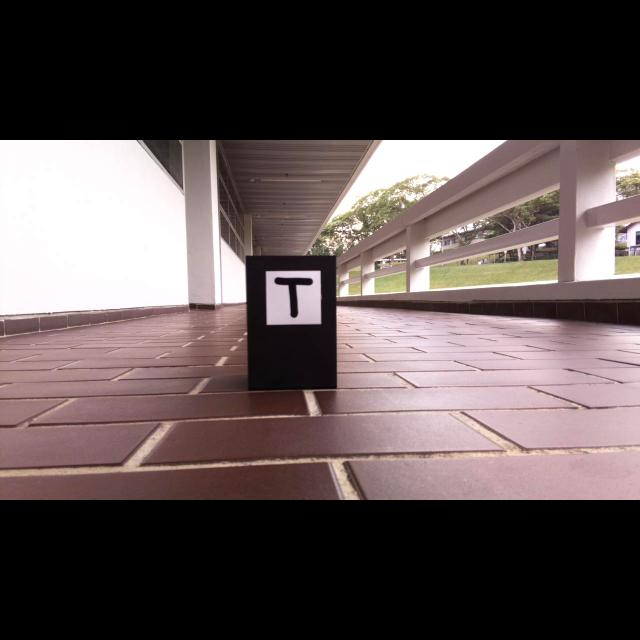T: (275, 277, 313, 318)
